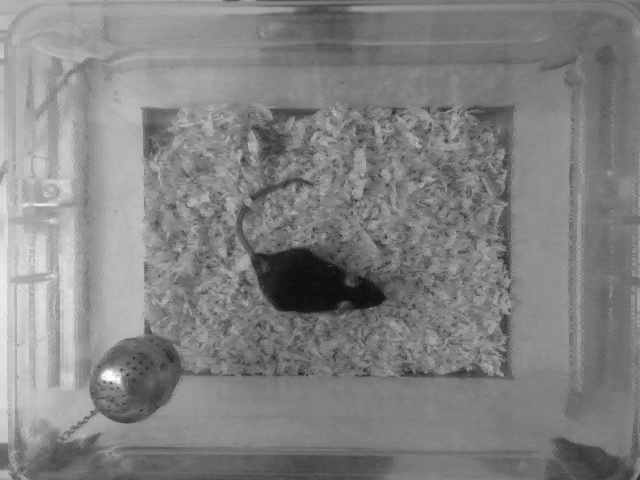mice: (223, 176, 392, 315)
